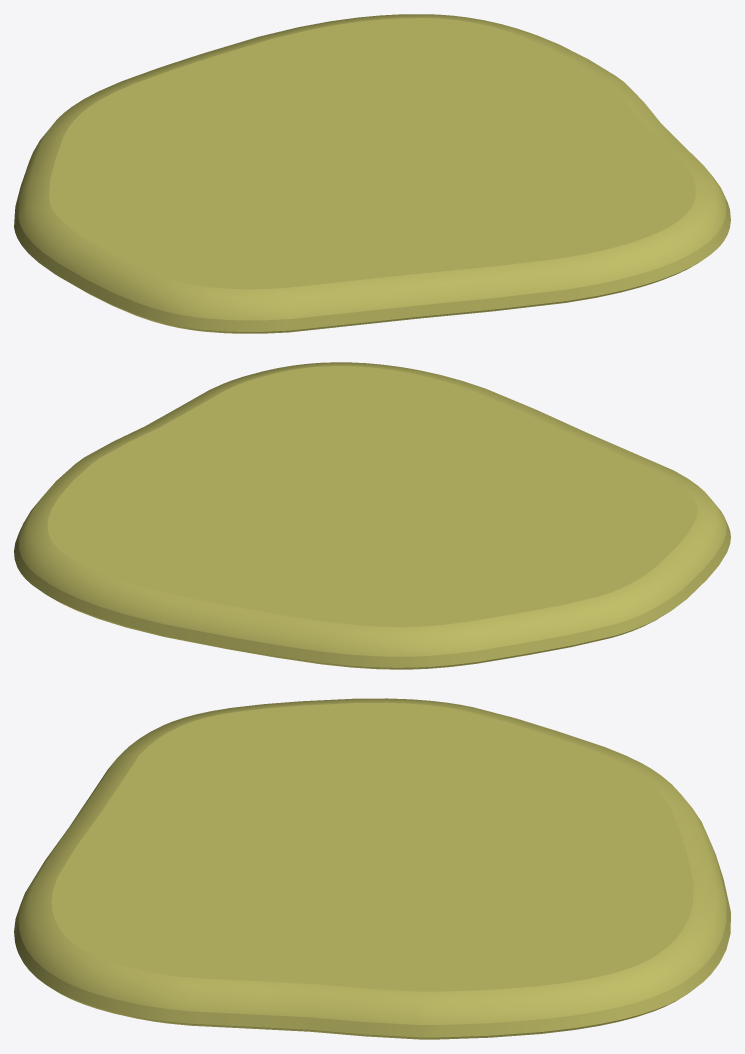
File: GROUND.fbx
3 renders of one model, top to bottom at view 1: azimuth 30°, elevation 25°; view 2: azimuth 150°, elevation 25°; view 3: azimuth 270°, elevation 25°, orthographic. The views are drawn at different scales.
Visible parts, largest first — view 1: Extrude; view 2: Extrude; view 3: Extrude.
Boxes of the visible parts, x1,y1,x2,y2 form: Extrude: (14,14,730,333); Extrude: (14,362,730,669); Extrude: (14,698,730,1039).
Bounding box in the file's own units: 30142 × 1654 × 28481.
